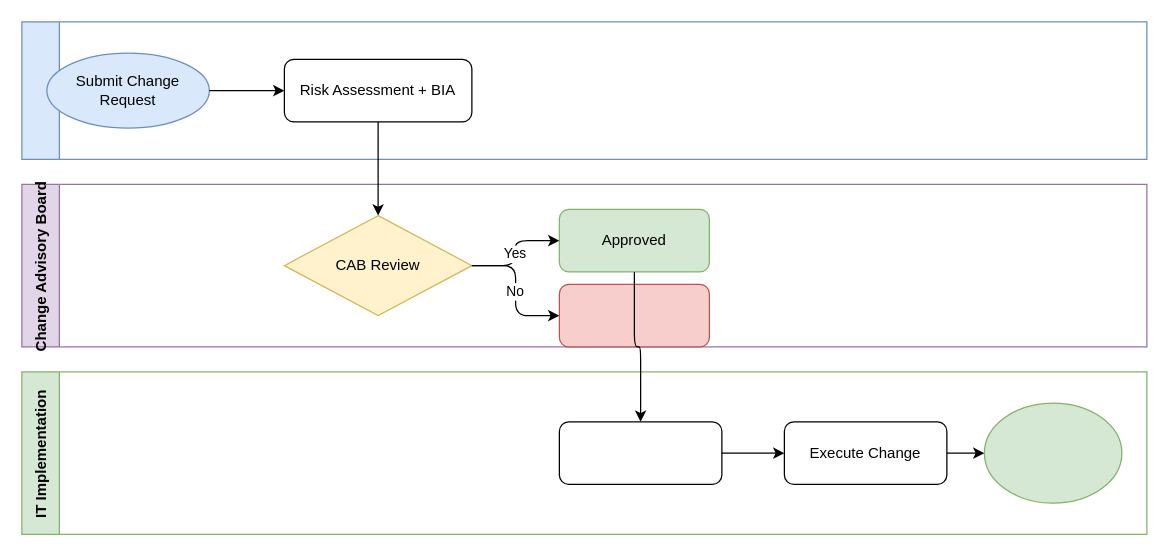
The diagram is 1169 pixels wide and 556 high, and some of its shapes have lost their labels. The shapes that lost their labels are listed below. From the top down, each one's box as (x1, y1, x2, y2) in pixels, then its label:
(21, 21, 1147, 159): Requestor
(558, 283, 709, 347): Reject / Defer
(558, 421, 722, 484): Schedule Window
(983, 402, 1122, 503): Post-Change Review
